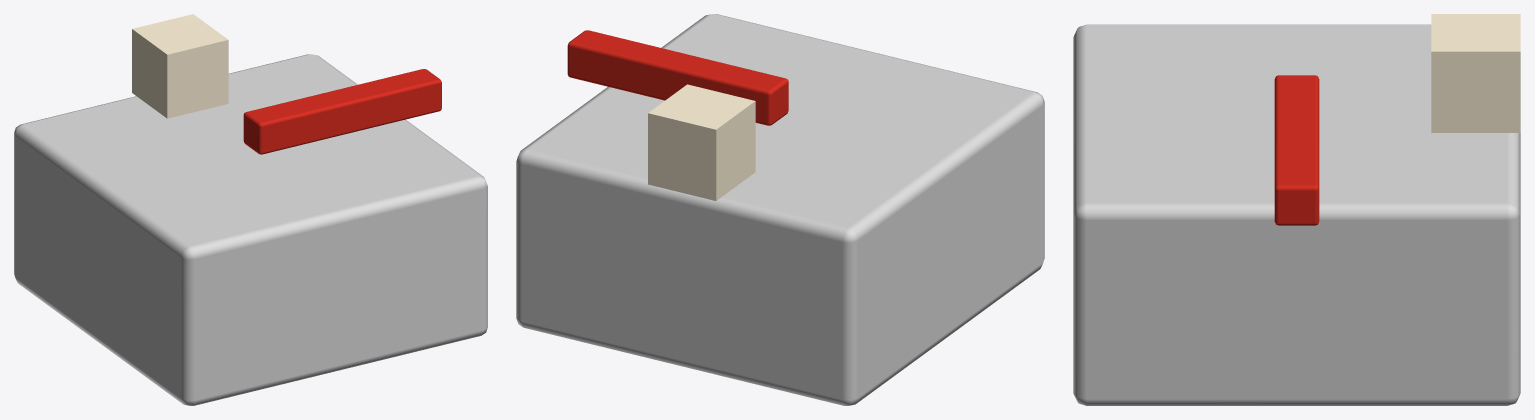
File: pipeline_test.glb
The picture shows the model from 3 angles, left to right: view 1: azimuth 30°, elevation 25°; view 2: azimuth 150°, elevation 25°; view 3: azimuth 270°, elevation 25°; orthographic projection. The views are drawn at different scales.
Parts seen in each view (by area): view 1: sockel, pfeil, licht; view 2: sockel, licht, pfeil; view 3: sockel, licht, pfeil.
Part boxes in pixels (x1,y1,x2,y2): sockel: (14,54,487,405); pfeil: (243,69,441,154); licht: (132,14,228,118); sockel: (516,14,1044,405); licht: (648,84,755,200); pfeil: (567,30,788,125); sockel: (1073,24,1520,405); licht: (1431,14,1520,132); pfeil: (1274,75,1319,225).
Size of the model in its own units: 1.1 by 0.7 by 1.
